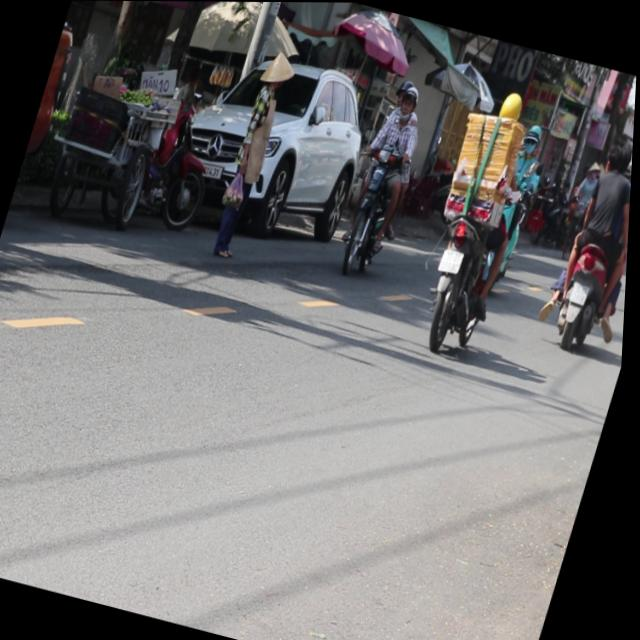helmet: (495, 85, 527, 125), (394, 77, 422, 114), (519, 119, 544, 154)
licenseplate: (412, 78, 558, 359), (534, 124, 635, 357), (333, 72, 438, 278)
motorcyclist: (603, 134, 635, 174)
nohelmet: (438, 244, 467, 273), (569, 279, 593, 304)
